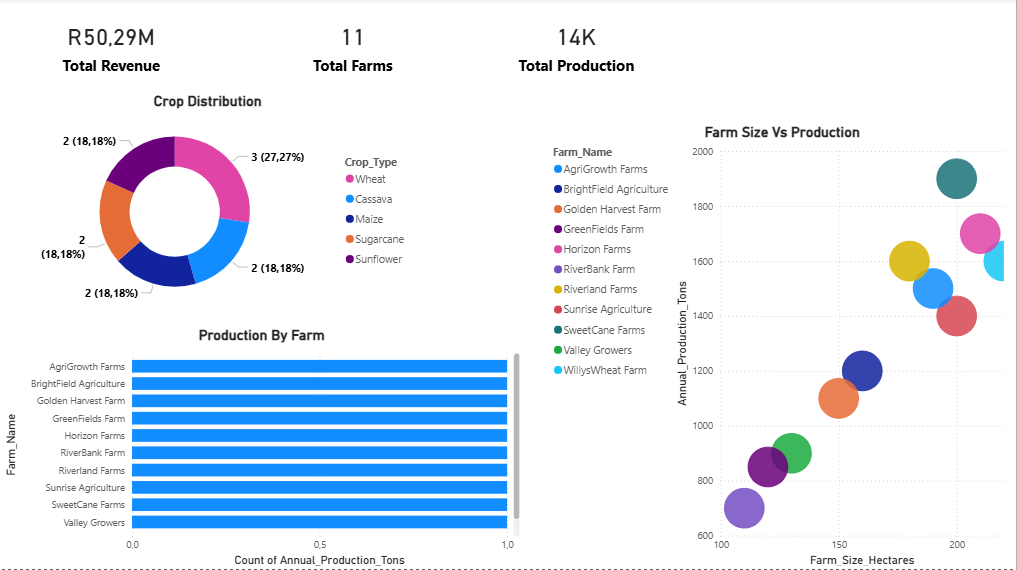

The page's visual inventory and layout, read from the dashboard file:
{"tool":"powerbi","page":{"name":"Farm Overview","canvas":[1280,720],"ordinal":0},"visuals":[{"type":"card","fields":{"Values":["Farm_ID (Farms).Total Farms"]},"box":[304.3,0,279.7,119.1],"z":0},{"type":"card","fields":{"Values":["Supply_Transactions.Total Revenue"]},"box":[0,0,279.7,119.1],"z":1},{"type":"card","fields":{"Values":["Farm_ID (Farms).Total Production"]},"box":[585.8,0,279.7,119.1],"z":2},{"type":"clusteredBarChart","title":"Production By Farm","fields":{"Category":["Farm_ID (Farms).Farm_Name"],"Y":["CountNonNull(Farm_ID (Farms).Annual_Production_Tons)"]},"box":[0,413.9,659.5,306.1],"z":3},{"type":"scatterChart","title":"Farm Size Vs Production","fields":{"X":["Farm_ID (Farms).Farm_Size_Hectares"],"Y":["Farm_ID (Farms).Annual_Production_Tons"],"Series":["Farm_ID (Farms).Farm_Name"],"Size":["CountNonNull(Farm_ID (Farms).Crop_Type)"]},"box":[691.7,158.7,587.7,561.3],"z":4},{"type":"donutChart","title":"Crop Distribution","fields":{"Category":["Farm_ID (Farms).Crop_Type"],"Y":["CountNonNull(Farm_ID (Farms).Farm_ID)"]},"box":[0,119.1,523.5,279.7],"z":5}]}

Visuals, with their boxes in screenshot pixels (x1, y1, x2, y2), scaled from the page's 1280x720 canvas onto the 1017x570 screenshot:
card - Farm_ID (Farms).Total Farms: <region>242, 0, 464, 94</region>
card - Supply_Transactions.Total Revenue: <region>0, 0, 222, 94</region>
card - Farm_ID (Farms).Total Production: <region>465, 0, 688, 94</region>
"Production By Farm" clusteredBarChart: <region>0, 328, 524, 569</region>
"Farm Size Vs Production" scatterChart: <region>550, 126, 1016, 569</region>
"Crop Distribution" donutChart: <region>0, 94, 416, 316</region>
